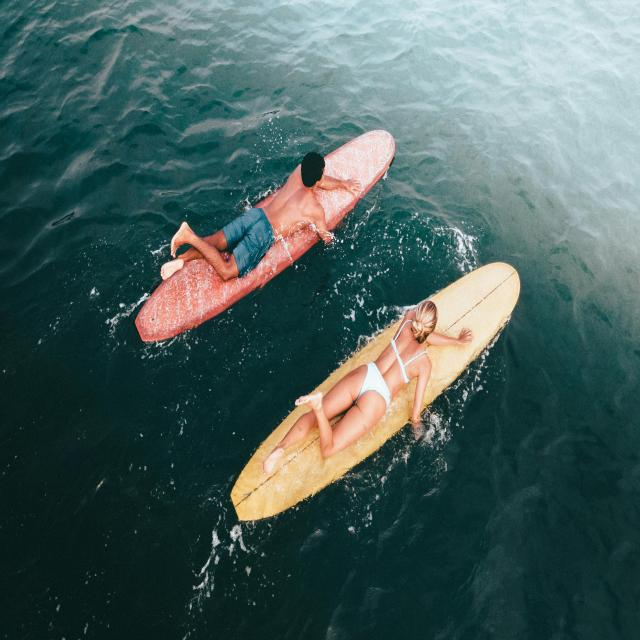lie: (262, 291, 448, 479), (162, 132, 340, 286)
